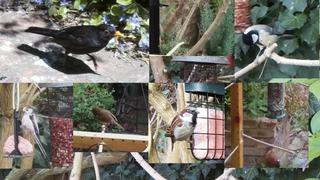blackbird: (24, 24, 125, 74)
great tit: (242, 24, 295, 65)
long tailed tit: (19, 107, 49, 163)
robin: (90, 107, 124, 130)
sparrow: (164, 107, 201, 152)
